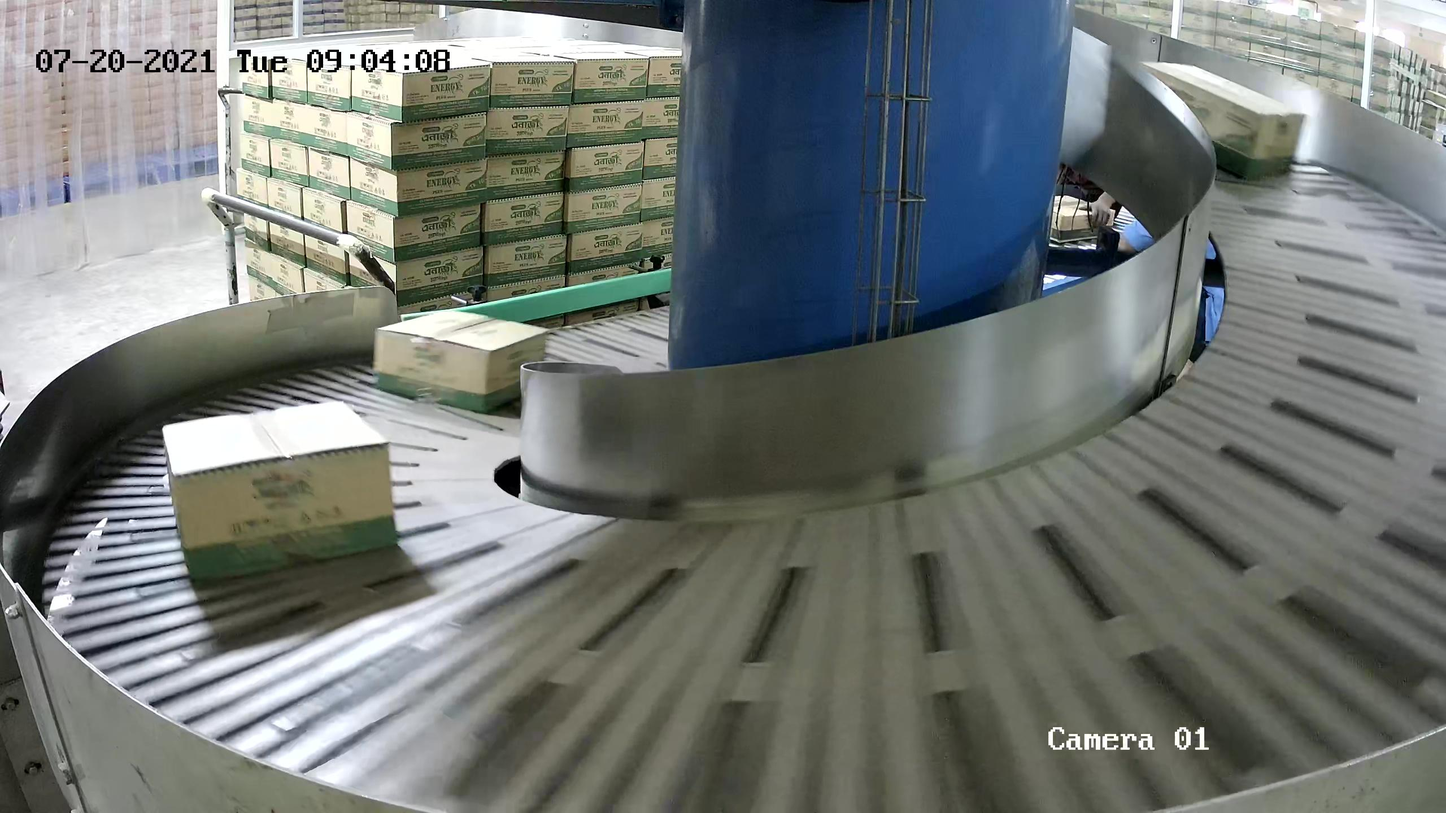Box: (161, 399, 399, 581), (1136, 59, 1307, 180), (372, 309, 550, 414)
